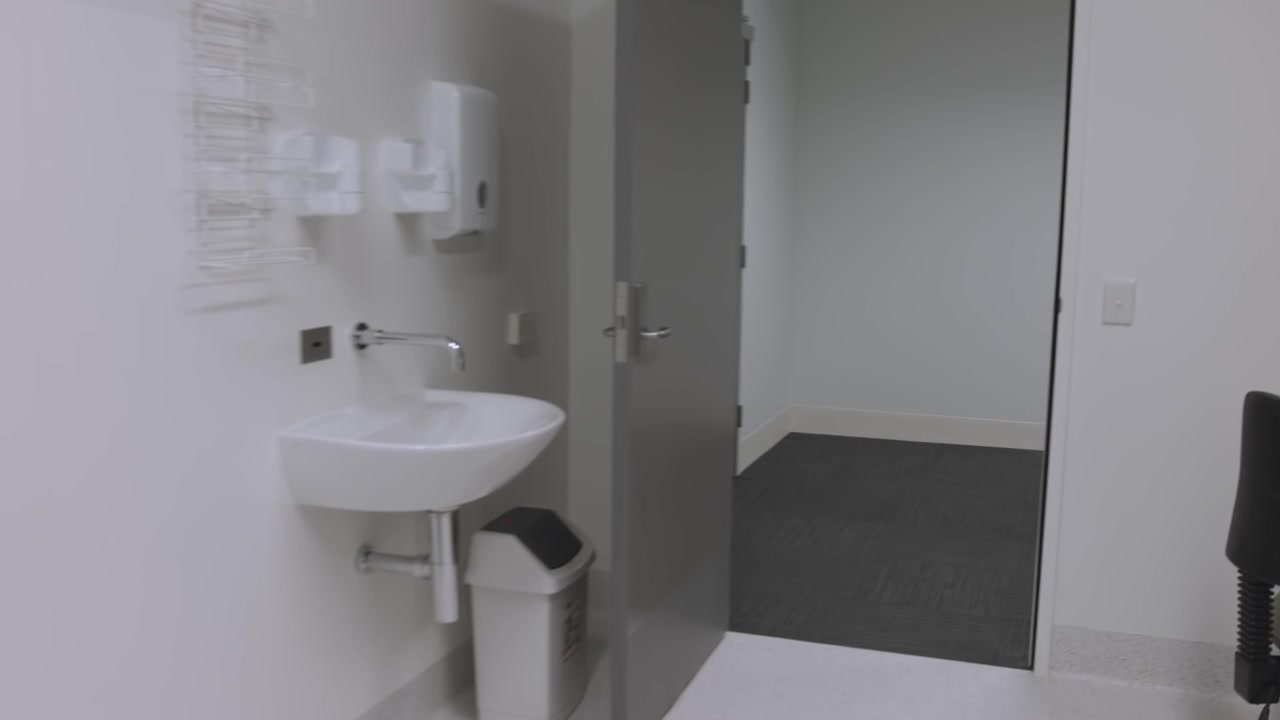chair: (1226, 391, 1280, 720)
dispenser: (420, 79, 501, 241)
door_handle: (618, 270, 675, 373)
faucet: (351, 322, 468, 375)
light_switch: (1100, 268, 1141, 332)
sink: (274, 390, 568, 625)
waste_bin: (465, 506, 596, 720)
